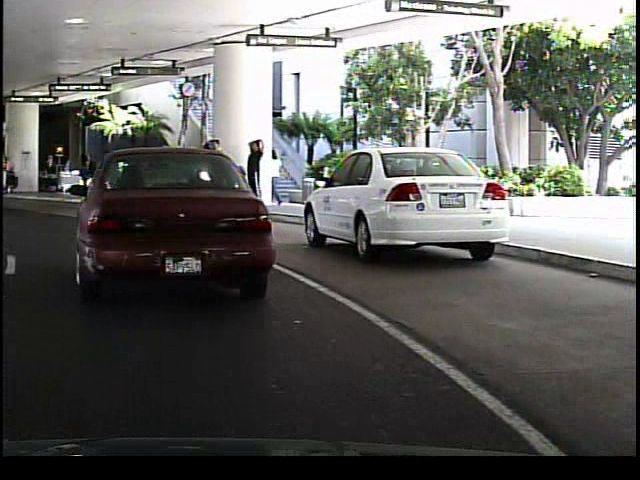person: (199, 133, 225, 209), (242, 134, 264, 210), (263, 145, 287, 207), (90, 156, 115, 196)
